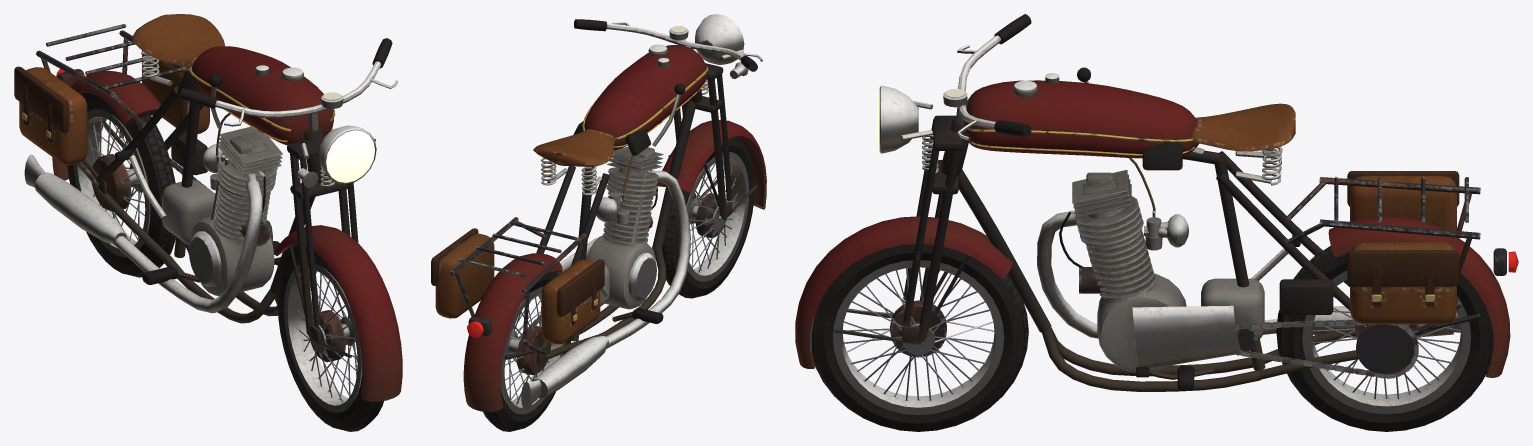
Rendered from motorcycle.glb.
3 renders of one model, left to right at view 1: azimuth 30°, elevation 25°; view 2: azimuth 150°, elevation 25°; view 3: azimuth 270°, elevation 25°, orthographic. The views are drawn at different scales.
Parts seen in each view (by area): view 1: motorcycle_body, steer, wheel_front, wheel_rear; view 2: motorcycle_body, steer, wheel_front, wheel_rear; view 3: motorcycle_body, wheel_front, steer, wheel_rear.
Part boxes in pixels (left/top/right/bottom): motorcycle_body: left=14, top=14, right=335, bottom=323; steer: left=179, top=38, right=402, bottom=401; wheel_front: left=277, top=245, right=383, bottom=431; wheel_rear: left=67, top=92, right=175, bottom=277; motorcycle_body: left=431, top=44, right=708, bottom=411; steer: left=574, top=14, right=766, bottom=220; wheel_front: left=662, top=137, right=754, bottom=298; wheel_rear: left=483, top=272, right=571, bottom=431; motorcycle_body: left=940, top=67, right=1518, bottom=391; wheel_front: left=811, top=244, right=1028, bottom=431; steer: left=795, top=14, right=1031, bottom=368; wheel_rear: left=1276, top=246, right=1492, bottom=431.
Size of the model in its own units: 0.8155 by 1.19 by 2.16.
Materials: 3 (1 with a texture image).
